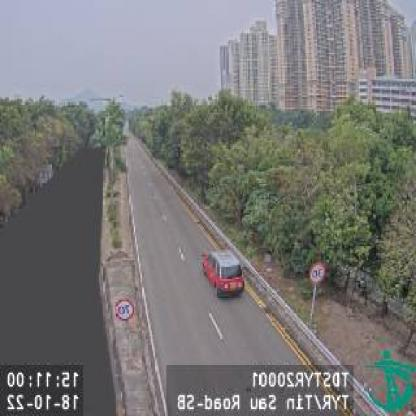Car: (198, 249, 245, 300)
